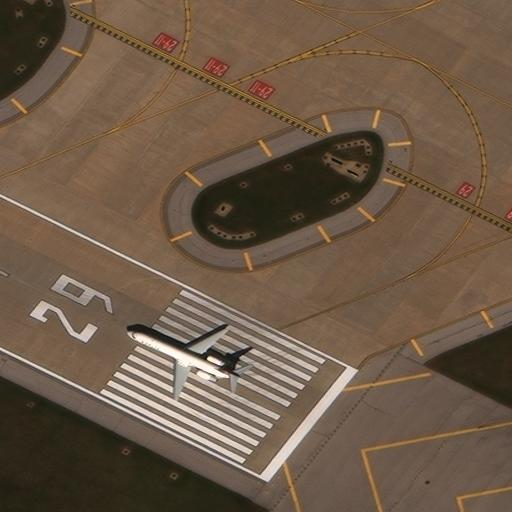Medium Civil Transport: (126, 324, 238, 401)
